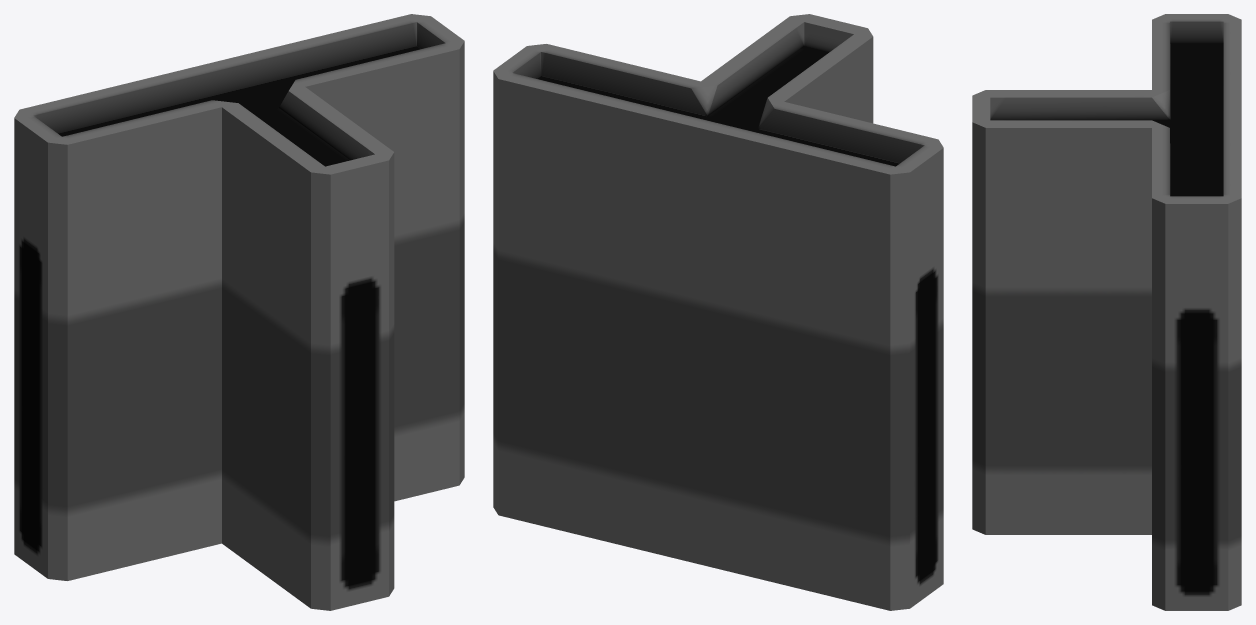
File: wall_single_two_t1.fbx
3 renders of one model, left to right at view 1: azimuth 30°, elevation 25°; view 2: azimuth 150°, elevation 25°; view 3: azimuth 270°, elevation 25°, orthographic. The views are drawn at different scales.
Parts seen in each view (by area): view 1: wall_single_two_t1; view 2: wall_single_two_t1; view 3: wall_single_two_t1.
Boxes of the visible parts, x1=… form: wall_single_two_t1: x1=14, y1=14, x2=464, y2=610; wall_single_two_t1: x1=493, y1=14, x2=943, y2=610; wall_single_two_t1: x1=972, y1=14, x2=1241, y2=610.
Size of the model in its own units: 1 by 1 by 0.6.
Materials: 1 (1 with a texture image).
